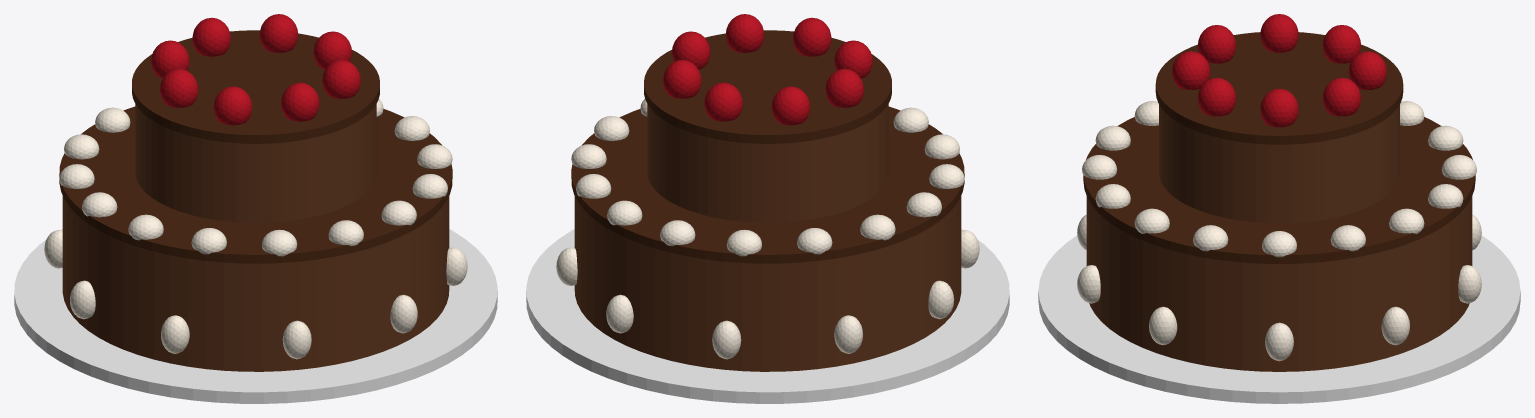
File: torta_chocolate.glb
3 renders of one model, left to right at view 1: azimuth 30°, elevation 25°; view 2: azimuth 150°, elevation 25°; view 3: azimuth 270°, elevation 25°, orthographic.
Visible parts, largest first — view 1: torta_chocolate_1, torta_chocolate_0, torta_chocolate_19, torta_chocolate_2, torta_chocolate_20, torta_chocolate_23, torta_chocolate_27, torta_chocolate_22, torta_chocolate_24, torta_chocolate_28, torta_chocolate_25, torta_chocolate_26 (+19 smaller); view 2: torta_chocolate_1, torta_chocolate_0, torta_chocolate_19, torta_chocolate_2, torta_chocolate_20, torta_chocolate_27, torta_chocolate_23, torta_chocolate_26, torta_chocolate_28, torta_chocolate_22, torta_chocolate_25, torta_chocolate_24 (+19 smaller); view 3: torta_chocolate_1, torta_chocolate_0, torta_chocolate_19, torta_chocolate_2, torta_chocolate_20, torta_chocolate_21, torta_chocolate_25, torta_chocolate_22, torta_chocolate_28, torta_chocolate_23, torta_chocolate_27, torta_chocolate_24 (+19 smaller).
Part boxes in pixels (bbox=[...]): torta_chocolate_1: bbox=[62, 196, 449, 371]; torta_chocolate_0: bbox=[14, 229, 497, 403]; torta_chocolate_19: bbox=[135, 104, 376, 222]; torta_chocolate_2: bbox=[59, 106, 452, 263]; torta_chocolate_20: bbox=[132, 30, 379, 143]; torta_chocolate_23: bbox=[281, 82, 319, 121]; torta_chocolate_27: bbox=[192, 17, 230, 56]; torta_chocolate_22: bbox=[322, 60, 360, 98]; torta_chocolate_24: bbox=[213, 86, 252, 125]; torta_chocolate_28: bbox=[259, 14, 298, 52]; torta_chocolate_25: bbox=[160, 69, 198, 107]; torta_chocolate_26: bbox=[151, 40, 189, 78]; torta_chocolate_1: bbox=[574, 196, 961, 371]; torta_chocolate_0: bbox=[526, 229, 1009, 403]; torta_chocolate_19: bbox=[647, 104, 888, 222]; torta_chocolate_2: bbox=[571, 106, 964, 263]; torta_chocolate_20: bbox=[644, 30, 891, 143]; torta_chocolate_27: bbox=[704, 82, 742, 121]; torta_chocolate_23: bbox=[793, 17, 831, 56]; torta_chocolate_26: bbox=[771, 86, 810, 125]; torta_chocolate_28: bbox=[663, 60, 701, 98]; torta_chocolate_22: bbox=[725, 14, 764, 52]; torta_chocolate_25: bbox=[825, 69, 863, 107]; torta_chocolate_24: bbox=[834, 40, 872, 78]; torta_chocolate_1: bbox=[1086, 196, 1472, 371]; torta_chocolate_0: bbox=[1038, 235, 1520, 403]; torta_chocolate_19: bbox=[1159, 104, 1399, 223]; torta_chocolate_2: bbox=[1083, 117, 1475, 263]; torta_chocolate_20: bbox=[1155, 32, 1403, 144]; torta_chocolate_21: bbox=[1260, 88, 1298, 127]; torta_chocolate_25: bbox=[1260, 14, 1298, 52]; torta_chocolate_22: bbox=[1197, 77, 1236, 116]; torta_chocolate_28: bbox=[1322, 77, 1361, 116]; torta_chocolate_23: bbox=[1172, 51, 1210, 89]; torta_chocolate_27: bbox=[1348, 51, 1386, 89]; torta_chocolate_24: bbox=[1197, 25, 1236, 63].
Size of the model in its own units: 0.3 by 0.1712 by 0.3.
